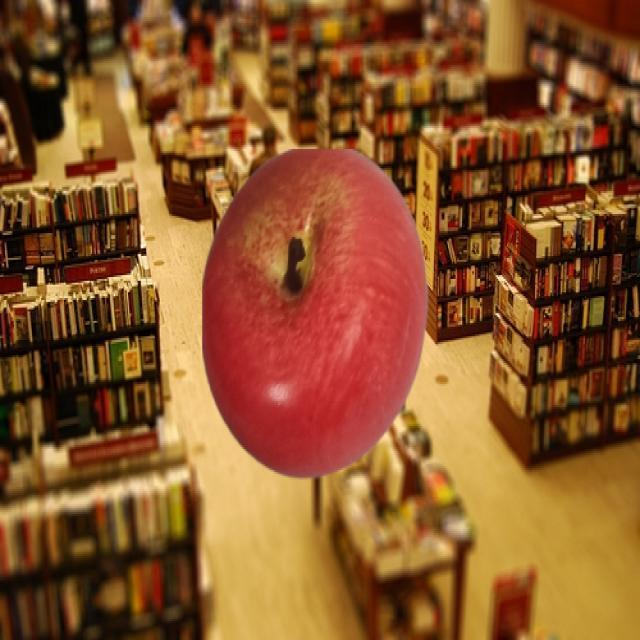apple: (200, 141, 430, 482)
